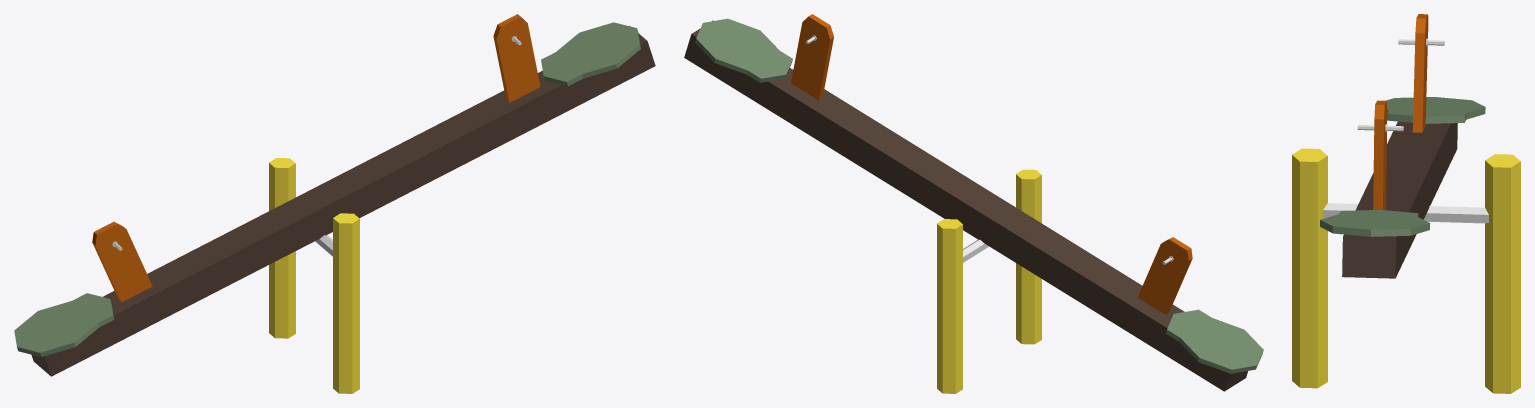
Rendered from Seesaw.fbx.
3 views of the same model, side by side, from view 1: azimuth 30°, elevation 25°; view 2: azimuth 150°, elevation 25°; view 3: azimuth 270°, elevation 25° (orthographic). The views are drawn at different scales.
Parts seen in each view (by area): view 1: Seesaw; view 2: Seesaw; view 3: Seesaw.
Part boxes in pixels (<box>): Seesaw: <box>14,14,655,393</box>; Seesaw: <box>684,14,1263,393</box>; Seesaw: <box>1292,14,1520,393</box>.
Size of the model in its own units: 557 by 137 by 268.
